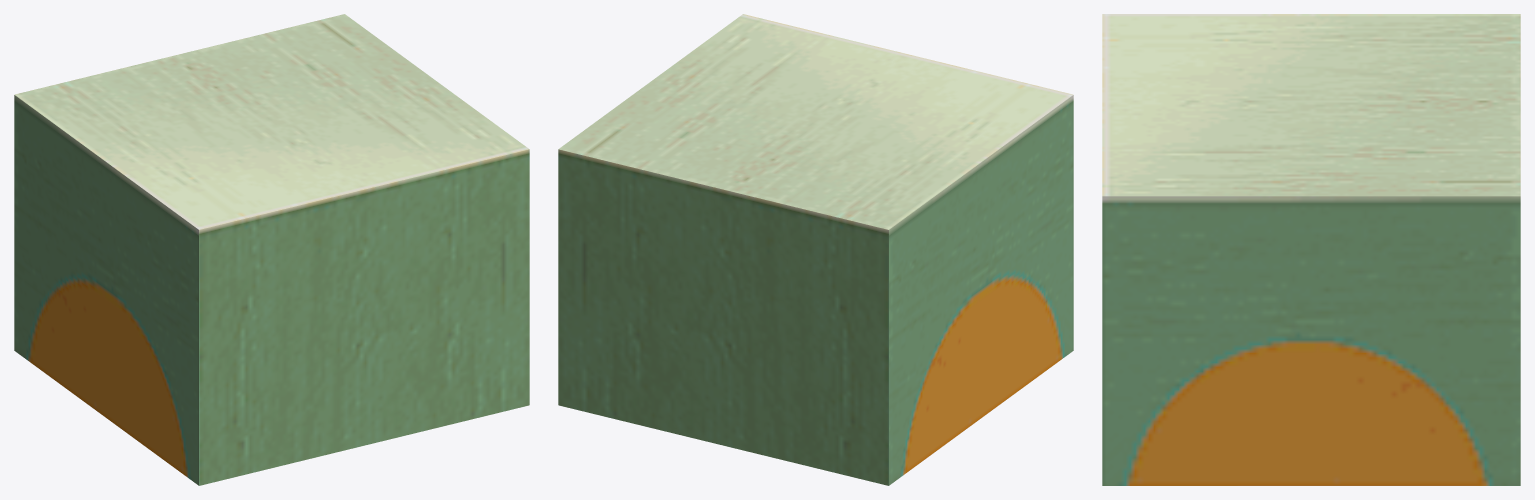
File: Doll_OB_Blocks_012.FBX
3 renders of one model, left to right at view 1: azimuth 30°, elevation 25°; view 2: azimuth 150°, elevation 25°; view 3: azimuth 270°, elevation 25°, orthographic. The views are drawn at different scales.
Visible parts, largest first — view 1: Doll_OB_Blocks_012; view 2: Doll_OB_Blocks_012; view 3: Doll_OB_Blocks_012.
Part boxes in pixels (x1,y1,x2,y2): Doll_OB_Blocks_012: (14, 14, 529, 485); Doll_OB_Blocks_012: (558, 14, 1073, 485); Doll_OB_Blocks_012: (1102, 14, 1520, 485).
Bounding box in the file's own units: 6.89 × 5.1 × 6.68.
Materials: 1 (1 with a texture image).
